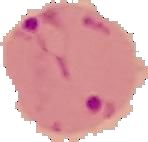parasitized: (12, 16, 131, 131), (18, 5, 82, 77), (79, 88, 123, 126)
